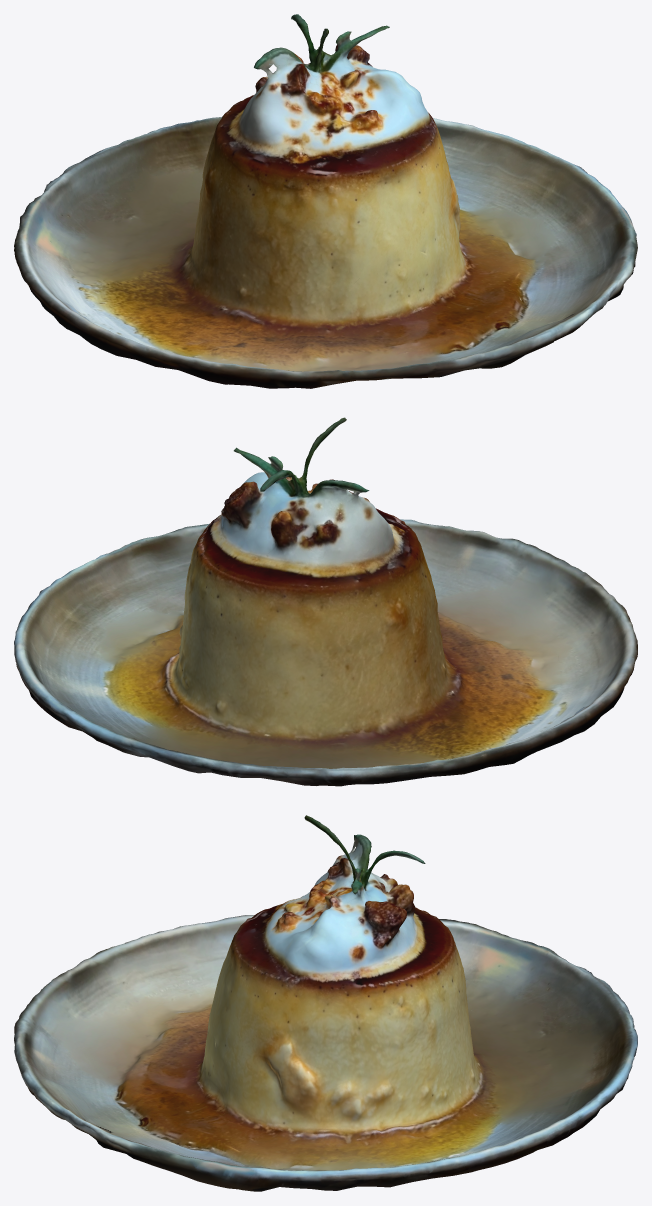
Rendered from cheesecake.glb.
3 views of the same model, one above another, from view 1: azimuth 30°, elevation 25°; view 2: azimuth 150°, elevation 25°; view 3: azimuth 270°, elevation 25° (orthographic).
Visible parts, largest first — view 1: ObjectCapture; view 2: ObjectCapture; view 3: ObjectCapture.
Boxes of the visible parts, box(x1,y1,x2,y2) form: ObjectCapture: box(14, 14, 637, 388); ObjectCapture: box(14, 417, 637, 786); ObjectCapture: box(14, 815, 637, 1191).
Bounding box in the file's own units: 0.1338 × 0.0636 × 0.1331.
1 material, 1 textured.
